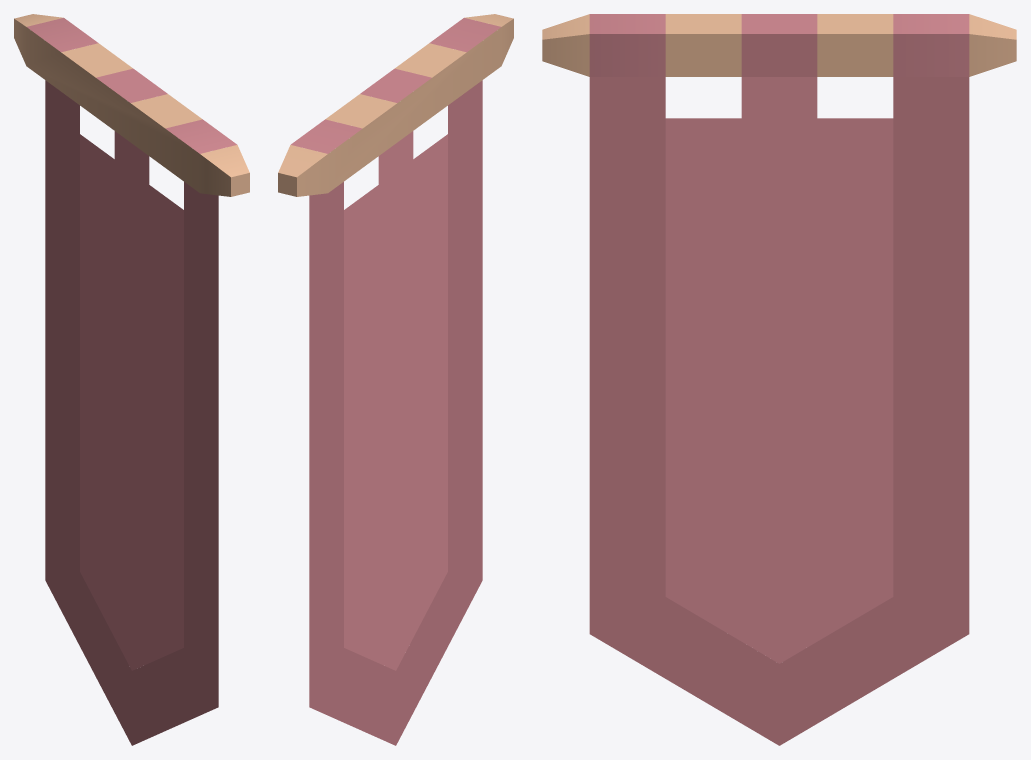
Rendered from bannerRed.glb.
3 views of the same model, side by side, from view 1: azimuth 30°, elevation 25°; view 2: azimuth 150°, elevation 25°; view 3: azimuth 270°, elevation 25° (orthographic). The views are drawn at different scales.
Visible parts, largest first — view 1: bannerRed; view 2: bannerRed; view 3: bannerRed.
Boxes of the visible parts, x1,y1,x2,y2 form: bannerRed: (14, 14, 249, 745); bannerRed: (278, 14, 513, 745); bannerRed: (542, 14, 1016, 745).
Size of the model in its own units: 0.05 by 0.8394 by 0.5.
